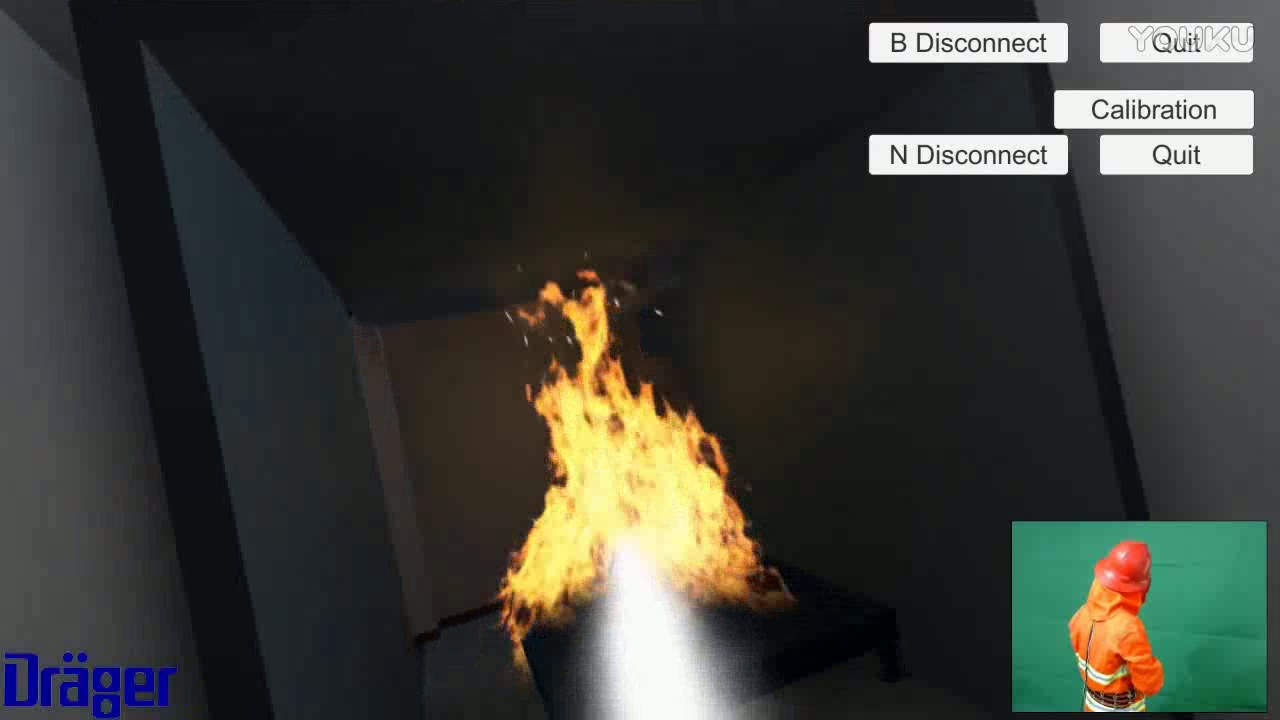fire: (483, 259, 791, 640)
